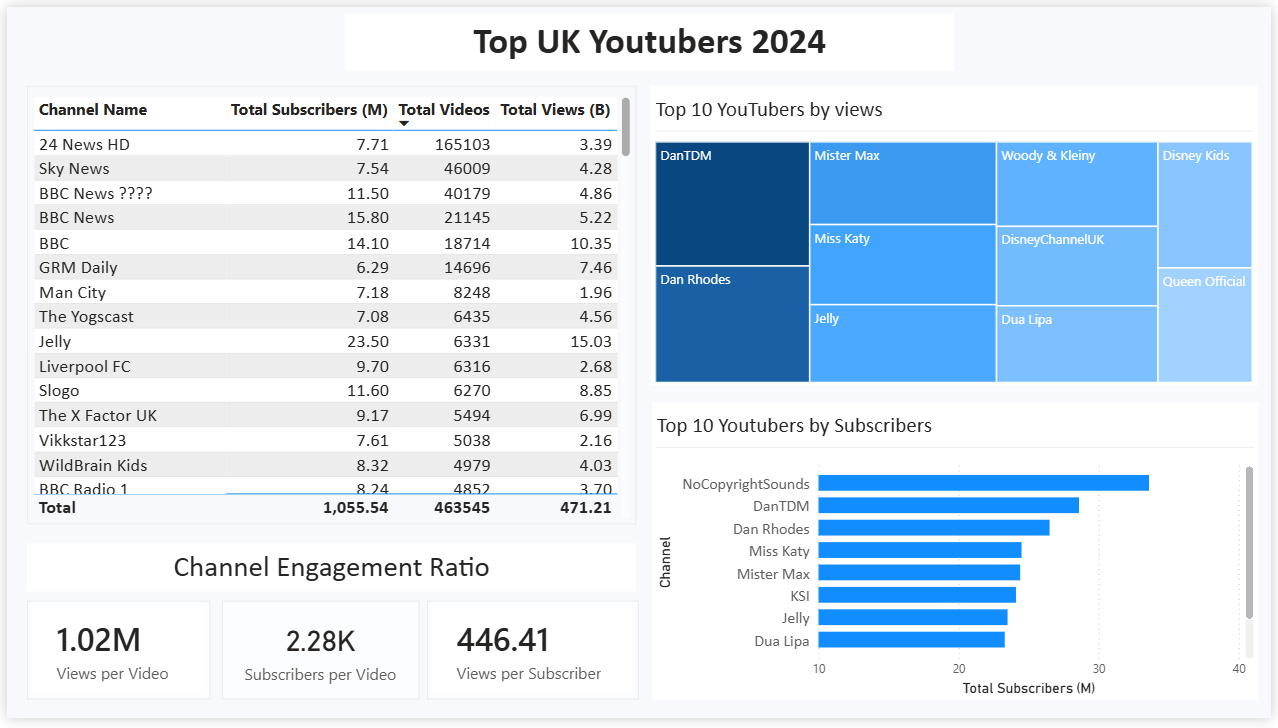

What the dashboard file says about the page in this screenshot:
{"tool":"powerbi","page":{"name":"Page 2","canvas":[1280,720],"ordinal":1},"visuals":[{"type":"cardVisual","title":"Total Subscriber","fields":{"Data":["view_top_uk_youtubers_2024.Views per Video"]},"box":[20,601.4,185.7,100],"z":0},{"type":"textbox","title":"Top UK Youtubers 2024","box":[342.1,6.4,617.9,57.9],"z":1000},{"type":"card","fields":{"Values":["view_top_uk_youtubers_2024.Subscribers per Video"]},"box":[217.1,601.4,200,100],"z":2000},{"type":"cardVisual","fields":{"Data":["view_top_uk_youtubers_2024.Views per Subscriber"]},"box":[425.7,601.4,214.3,100],"z":3000},{"type":"tableEx","title":"Subscribers by Channel","fields":{"Values":["view_top_uk_youtubers_2024.channel_name","view_top_uk_youtubers_2024.Total Subscribers (M)","view_top_uk_youtubers_2024.Total Videos","view_top_uk_youtubers_2024.Total Views (B)"]},"box":[20,80,617.1,444.3],"z":4000},{"type":"treemap","title":"Top 10 YouTubers by views","fields":{"Group":["view_top_uk_youtubers_2024.channel_name"],"Values":["view_top_uk_youtubers_2024.Total Views (B)"]},"box":[651.4,80,614.3,304.3],"z":5000},{"type":"clusteredBarChart","title":"Top 10 Youtubers by Subscribers","fields":{"Category":["view_top_uk_youtubers_2024.channel_name"],"Y":["view_top_uk_youtubers_2024.Total Subscribers (M)"]},"box":[652.9,400,614.3,301.4],"z":6000},{"type":"textbox","title":"Channel Engagement Ratio","box":[20,542.9,617.1,48.6],"z":7000}]}

Visuals, with their boxes in screenshot pixels (x1, y1, x2, y2), scaled from the page's 1280x720 canvas onto the 1278x728 screenshot:
"Total Subscriber" cardVisual: left=20, top=608, right=205, bottom=709
"Top UK Youtubers 2024" textbox: left=342, top=6, right=958, bottom=65
card - view_top_uk_youtubers_2024.Subscribers per Video: left=217, top=608, right=416, bottom=709
cardVisual - view_top_uk_youtubers_2024.Views per Subscriber: left=425, top=608, right=639, bottom=709
"Subscribers by Channel" tableEx: left=20, top=81, right=636, bottom=530
"Top 10 YouTubers by views" treemap: left=650, top=81, right=1264, bottom=389
"Top 10 Youtubers by Subscribers" clusteredBarChart: left=652, top=404, right=1265, bottom=709
"Channel Engagement Ratio" textbox: left=20, top=549, right=636, bottom=598
